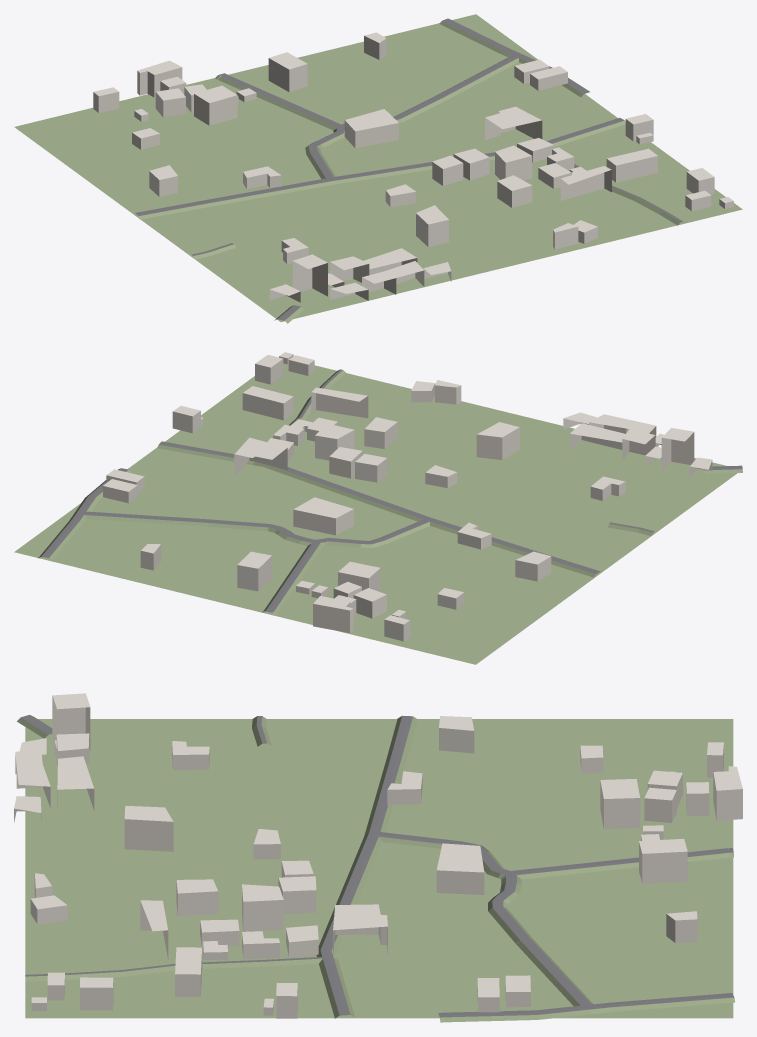
Rendered from dhamrai_chunk_x0_z-1.glb.
3 views of the same model, one above another, from view 1: azimuth 30°, elevation 25°; view 2: azimuth 150°, elevation 25°; view 3: azimuth 270°, elevation 25° (orthographic). The views are drawn at different scales.
Parts seen in each view (by area): view 1: terrain, buildings, roads, embankments; view 2: terrain, buildings, roads, embankments; view 3: terrain, buildings, embankments, roads.
Boxes of the visible parts, left/top/right/bottom form: terrain: left=14, top=14, right=742, bottom=321; buildings: left=93, top=32, right=733, bottom=302; roads: left=135, top=18, right=682, bottom=320; embankments: left=138, top=21, right=684, bottom=323; terrain: left=14, top=363, right=737, bottom=664; buildings: left=103, top=352, right=712, bottom=641; roads: left=41, top=369, right=742, bottom=612; embankments: left=38, top=370, right=742, bottom=615; terrain: left=25, top=719, right=733, bottom=1018; buildings: left=14, top=693, right=742, bottom=1018; embankments: left=17, top=715, right=735, bottom=1022; roads: left=21, top=715, right=734, bottom=1017.
Bounding box in the file's own units: 262 × 19.23 × 264.
